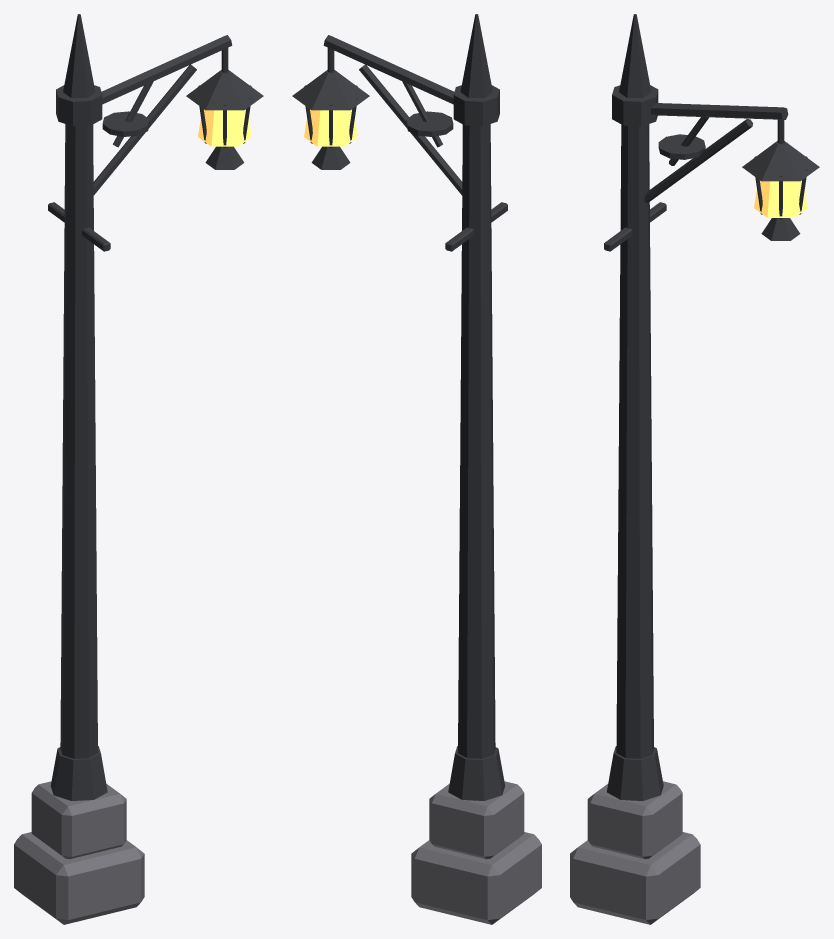
File: route77_gothic_lamppost.glb
3 renders of one model, left to right at view 1: azimuth 30°, elevation 25°; view 2: azimuth 150°, elevation 25°; view 3: azimuth 330°, elevation 25°, orthographic.
Parts seen in each view (by area): view 1: Iron main shaft, Stone plinth lower, Stone plinth upper, Iron column base collar, Lantern canopy hood, Upper iron arm, Top spire finial, Lantern glowing core, Iron capital ring, Curved iron scroll brace, Ornamental scroll ring, Lantern bottom finial (+1 smaller); view 2: Iron main shaft, Stone plinth lower, Stone plinth upper, Iron column base collar, Lantern canopy hood, Upper iron arm, Top spire finial, Lantern glowing core, Iron capital ring, Curved iron scroll brace, Ornamental scroll ring, Lantern bottom finial (+1 smaller); view 3: Iron main shaft, Stone plinth lower, Stone plinth upper, Iron column base collar, Lantern canopy hood, Upper iron arm, Top spire finial, Lantern glowing core, Iron capital ring, Curved iron scroll brace, Ornamental scroll ring, Lantern bottom finial (+1 smaller).
Part boxes in pixels (bbox=[...]): Iron main shaft: bbox=[60, 124, 97, 758]; Stone plinth lower: bbox=[14, 832, 144, 924]; Stone plinth upper: bbox=[31, 781, 126, 859]; Iron column base collar: bbox=[50, 746, 107, 800]; Lantern canopy hood: bbox=[186, 70, 263, 110]; Upper iron arm: bbox=[101, 35, 232, 104]; Top spire finial: bbox=[63, 14, 95, 97]; Lantern glowing core: bbox=[198, 109, 251, 146]; Iron capital ring: bbox=[56, 85, 102, 126]; Curved iron scroll brace: bbox=[93, 64, 196, 195]; Ornamental scroll ring: bbox=[102, 111, 149, 136]; Lantern bottom finial: bbox=[205, 146, 244, 169]; Iron main shaft: bbox=[458, 124, 495, 758]; Stone plinth lower: bbox=[411, 832, 541, 924]; Stone plinth upper: bbox=[429, 781, 524, 859]; Iron column base collar: bbox=[448, 746, 505, 800]; Lantern canopy hood: bbox=[292, 70, 369, 110]; Upper iron arm: bbox=[323, 35, 454, 104]; Top spire finial: bbox=[460, 14, 492, 97]; Lantern glowing core: bbox=[304, 109, 357, 146]; Iron capital ring: bbox=[453, 85, 499, 126]; Curved iron scroll brace: bbox=[359, 64, 462, 195]; Ornamental scroll ring: bbox=[406, 111, 453, 136]; Lantern bottom finial: bbox=[311, 146, 350, 169]; Iron main shaft: bbox=[616, 124, 653, 758]; Stone plinth lower: bbox=[570, 832, 700, 924]; Stone plinth upper: bbox=[587, 781, 682, 859]; Iron column base collar: bbox=[607, 746, 663, 800]; Lantern canopy hood: bbox=[742, 141, 819, 181]; Upper iron arm: bbox=[651, 103, 788, 119]; Top spire finial: bbox=[619, 14, 651, 97]; Lantern glowing core: bbox=[754, 180, 807, 217]; Iron capital ring: bbox=[612, 85, 658, 126]; Curved iron scroll brace: bbox=[644, 119, 753, 202]; Ornamental scroll ring: bbox=[658, 134, 705, 159]; Lantern bottom finial: bbox=[761, 218, 800, 240].
Bounding box in the file's own units: 1.69 × 6.51 × 0.75.
